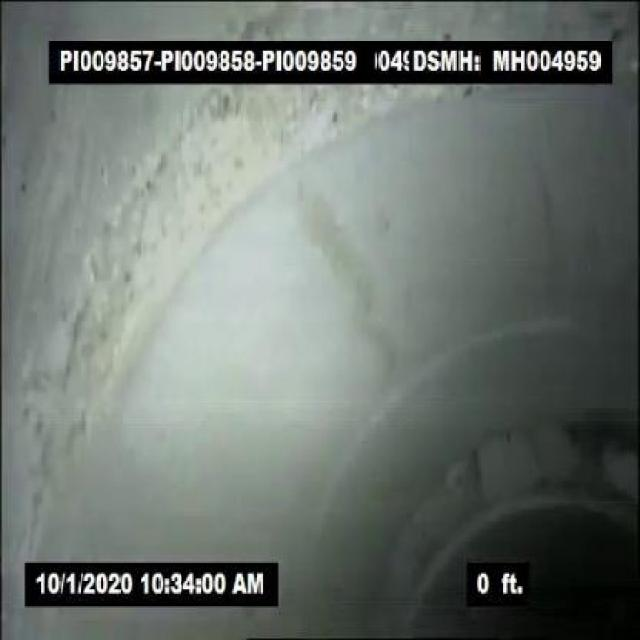Crack: (303, 203, 400, 379)
Joint offset: (392, 412, 636, 560)
